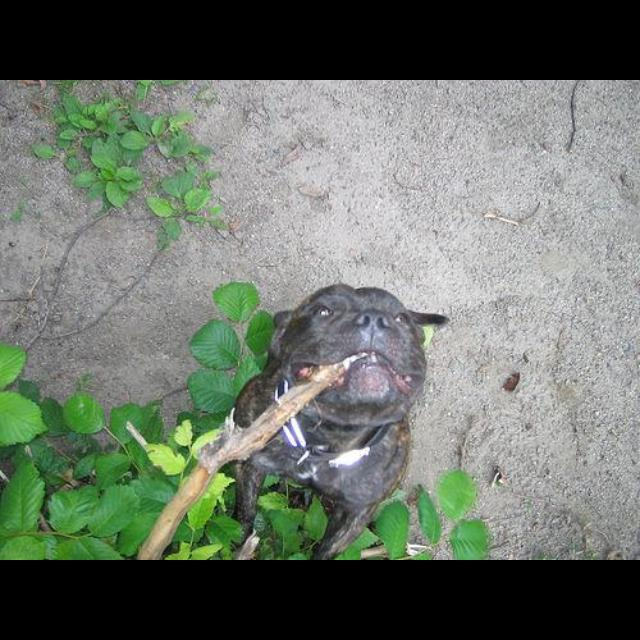staffford: (227, 283, 449, 560)
